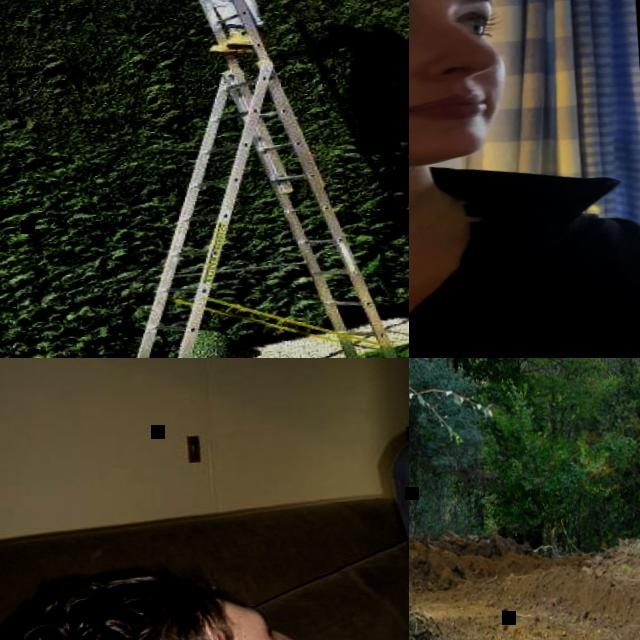NO-Hardhat: (0, 557, 242, 640)
NO-Mask: (409, 37, 508, 179)
NO-Safety Vest: (409, 200, 640, 358)
Person: (0, 413, 409, 640), (409, 0, 640, 358), (160, 0, 273, 55)
